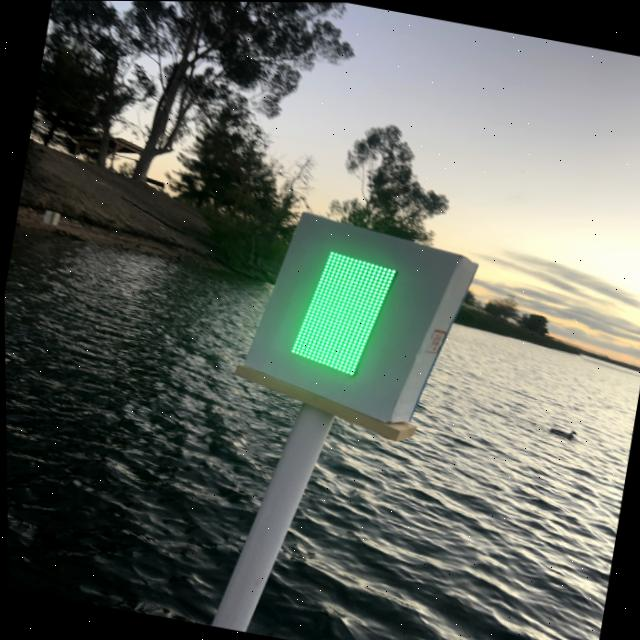led: (263, 228, 427, 396)
